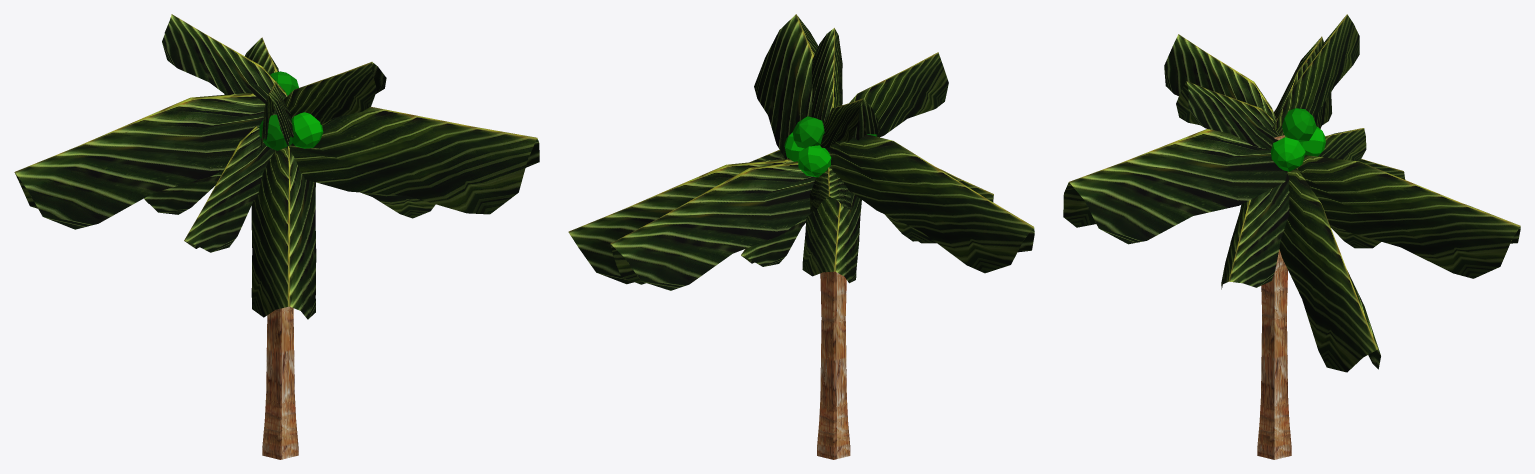
The model's file is coconut.fbx.
3 renders of one model, left to right at view 1: azimuth 30°, elevation 25°; view 2: azimuth 150°, elevation 25°; view 3: azimuth 270°, elevation 25°, orthographic. The views are drawn at different scales.
Visible parts, largest first — view 1: pPlane6, pPlane9, pPlane3, pPlane15, pPlane14, pCylinder29, pPlane5, pPlane2, pPlane8, pSphere11, pPlane4, pSphere12 (+1 smaller); view 2: pPlane11, pPlane9, pPlane6, pCylinder29, pPlane13, pPlane8, pPlane10, pPlane5, pPlane14, pPlane7, pPlane12, pSphere15 (+1 smaller); view 3: pPlane6, pPlane11, pPlane13, pCylinder29, pPlane4, pPlane5, pPlane14, pPlane8, pPlane12, pPlane9, pSphere13, pSphere14 (+2 smaller).
Part boxes in pixels (x1,y1,x2,y2): pPlane6: [288, 107, 539, 214]; pPlane9: [14, 93, 276, 229]; pPlane3: [251, 146, 316, 319]; pPlane15: [184, 126, 275, 252]; pPlane14: [162, 14, 287, 109]; pCylinder29: [262, 306, 298, 459]; pPlane5: [283, 62, 386, 124]; pPlane2: [144, 169, 224, 214]; pPlane8: [260, 81, 293, 147]; pSphere11: [291, 112, 323, 148]; pPlane4: [360, 192, 435, 218]; pSphere12: [259, 114, 292, 150]; pPlane11: [610, 161, 815, 290]; pPlane9: [825, 134, 1034, 273]; pPlane6: [754, 14, 818, 159]; pCylinder29: [817, 271, 850, 459]; pPlane13: [568, 159, 793, 284]; pPlane8: [849, 52, 948, 137]; pPlane10: [802, 192, 861, 283]; pPlane5: [811, 28, 842, 124]; pPlane14: [820, 98, 880, 147]; pPlane7: [741, 217, 806, 266]; pPlane12: [809, 167, 851, 212]; pSphere15: [798, 145, 831, 177]; pPlane6: [1063, 129, 1287, 244]; pPlane11: [1297, 155, 1520, 278]; pPlane13: [1279, 168, 1380, 372]; pCylinder29: [1257, 135, 1291, 459]; pPlane4: [1221, 173, 1289, 289]; pPlane5: [1176, 81, 1282, 149]; pPlane14: [1272, 14, 1359, 135]; pPlane8: [1164, 34, 1276, 122]; pPlane12: [1318, 128, 1366, 161]; pPlane9: [1274, 36, 1331, 128]; pSphere13: [1282, 108, 1316, 141]; pSphere14: [1270, 137, 1305, 171].
Bounding box in the file's own units: 204 × 176 × 180.
Materials: 14 (9 with a texture image).
